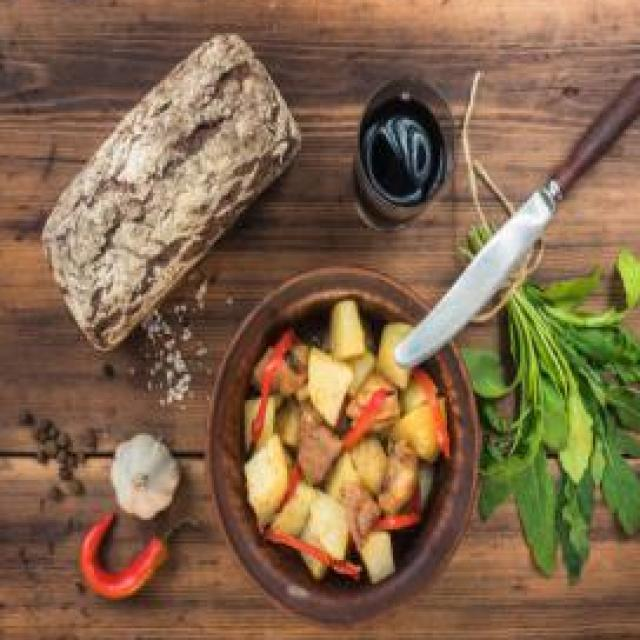knife: (395, 71, 640, 367)
